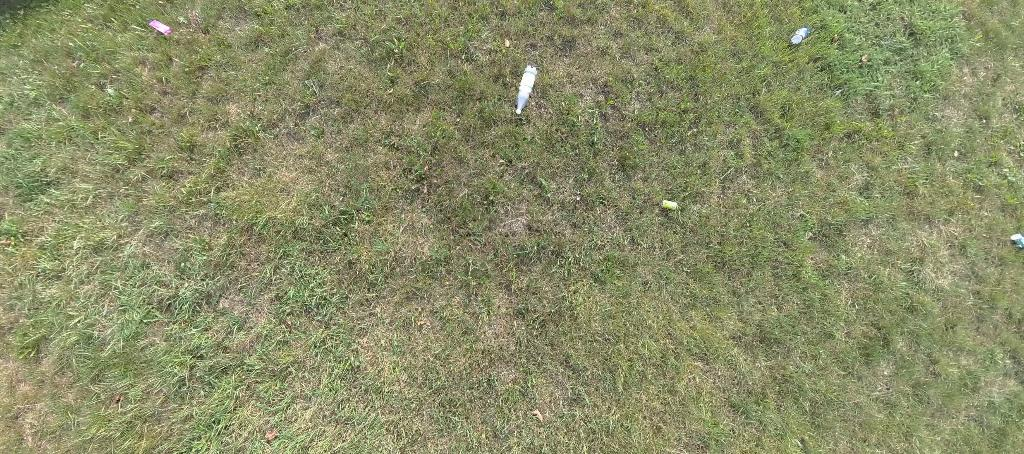garbage: (514, 65, 538, 120), (148, 20, 171, 36), (792, 26, 809, 46)
